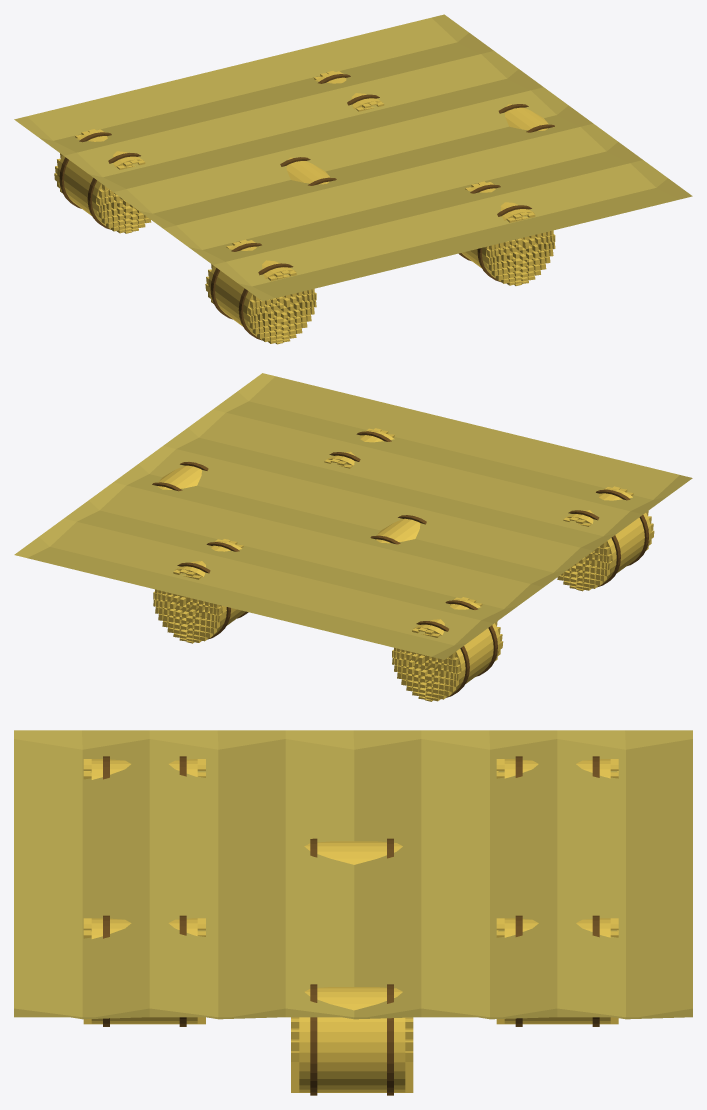
File: field1.fbx
3 renders of one model, top to bottom at view 1: azimuth 30°, elevation 25°; view 2: azimuth 150°, elevation 25°; view 3: azimuth 270°, elevation 25°, orthographic. The views are drawn at different scales.
Parts seen in each view (by area): view 1: Plane, Cylinder.002, Cylinder.003; view 2: Plane, Cylinder.002, Cylinder.003; view 3: Plane, Cylinder.002, Cylinder.003.
Part boxes in pixels (x1,y1,x2,y2): Plane: (14, 14, 692, 301); Cylinder.002: (54, 71, 555, 344); Cylinder.003: (59, 74, 554, 340); Plane: (14, 373, 692, 659); Cylinder.002: (153, 428, 654, 701); Cylinder.003: (152, 431, 648, 697); Plane: (14, 730, 692, 1019); Cylinder.002: (83, 759, 618, 1092); Cylinder.003: (103, 756, 599, 1095).
Bounding box in the file's own units: 1000 × 165 × 1000.
